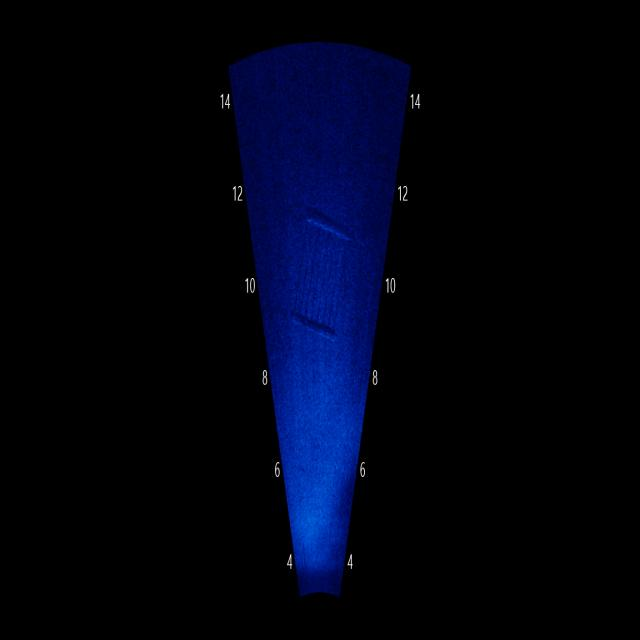square: (282, 180, 358, 340)
